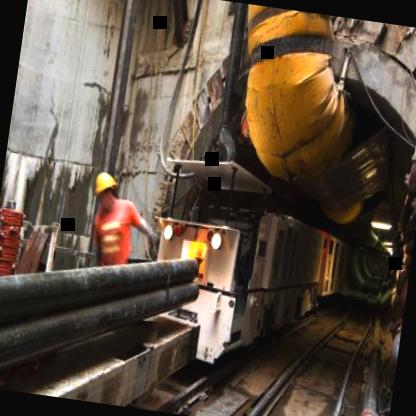helmet: (90, 168, 122, 210)
